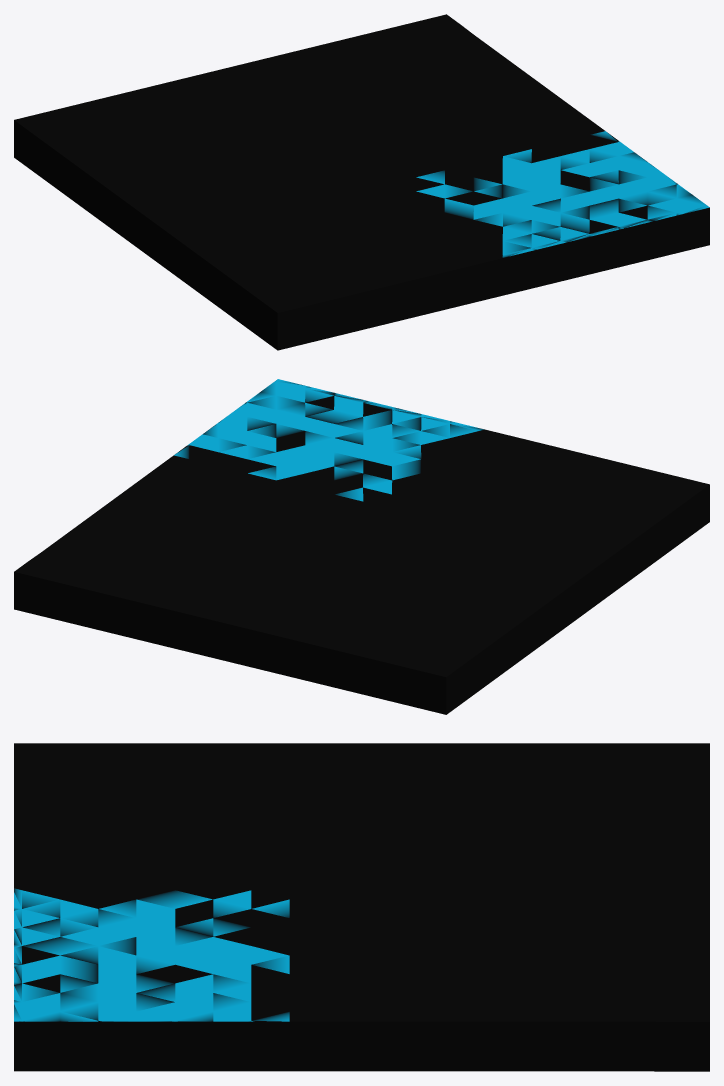
The model's file is 0007_miniLondon_water.fbx.
The picture shows the model from 3 angles, top to bottom: view 1: azimuth 30°, elevation 25°; view 2: azimuth 150°, elevation 25°; view 3: azimuth 270°, elevation 25°; orthographic projection. The views are drawn at different scales.
Visible parts, largest first — view 1: [water]; view 2: [water]; view 3: [water].
Boxes of the visible parts, <box> form: [water]: <box>14,14,709,350</box>; [water]: <box>14,379,709,714</box>; [water]: <box>14,743,709,1071</box>.
Bounding box in the file's own units: 115 × 9.55 × 121.
